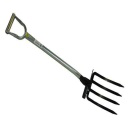fork: (7, 10, 126, 118)
